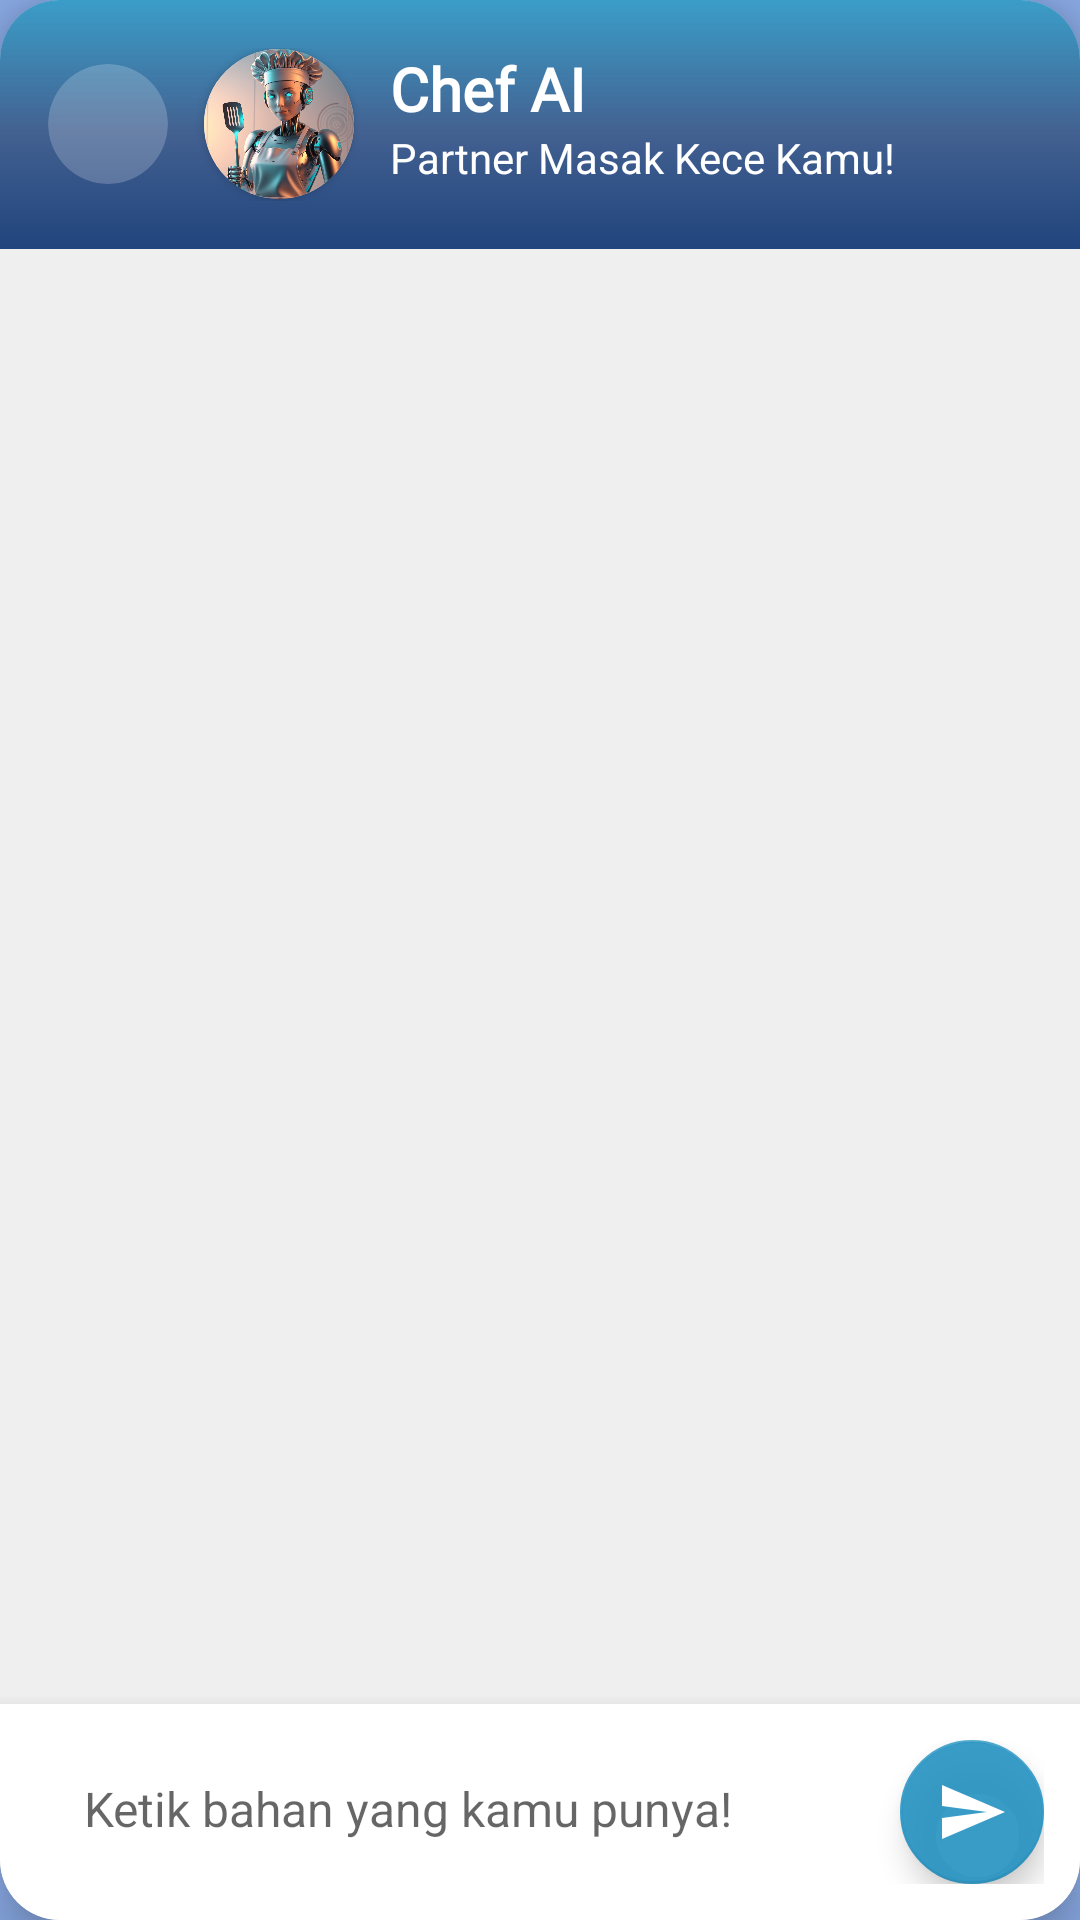

Icons on this 1080px×1920px Android screen, each with the point to tap as point (x, y):
send: point (972, 1812)
